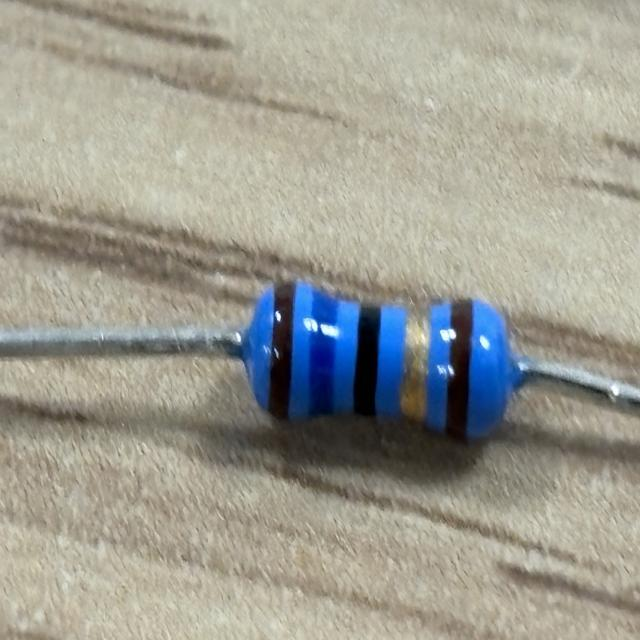resistor: (248, 268, 511, 460)
